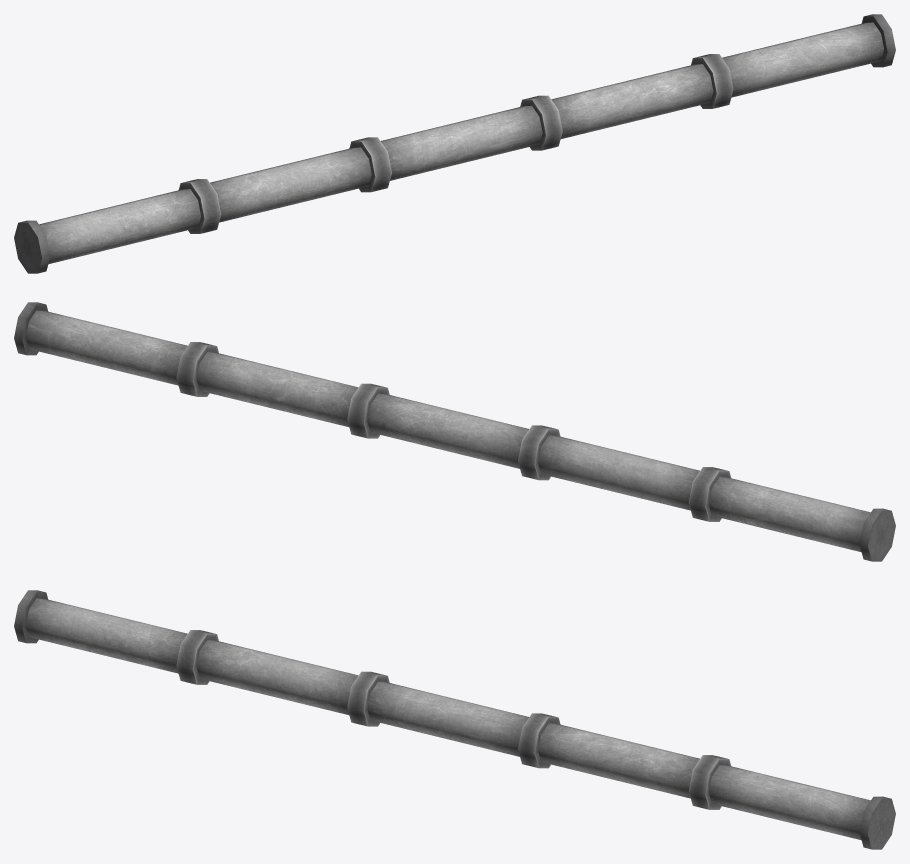
The model's file is Pipe_Big.FBX.
3 views of the same model, one above another, from view 1: azimuth 30°, elevation 25°; view 2: azimuth 150°, elevation 25°; view 3: azimuth 330°, elevation 25° (orthographic).
Parts seen in each view (by area): view 1: Cylinder063; view 2: Cylinder063; view 3: Cylinder063.
Part boxes in pixels (<box>): Cylinder063: <box>14,14,895,273</box>; Cylinder063: <box>14,302,895,561</box>; Cylinder063: <box>14,590,895,849</box>.
Bounding box in the file's own units: 117 × 6.7 × 6.7.
